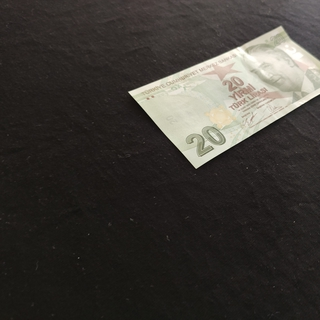20TLFront: (128, 25, 320, 169)
